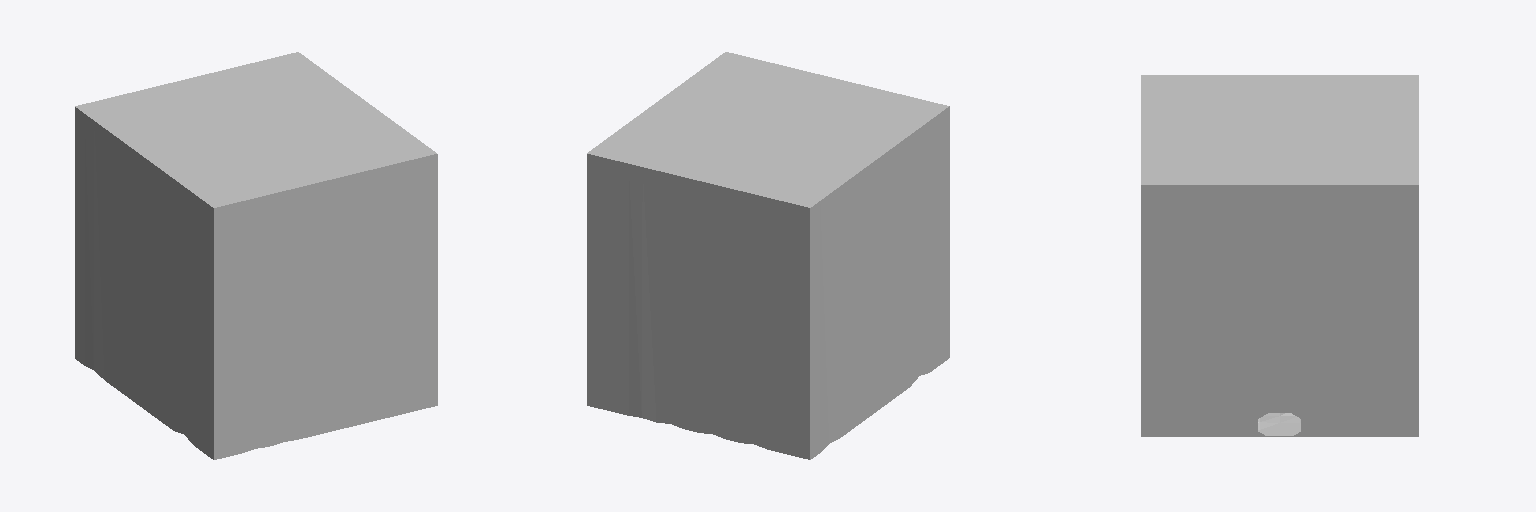
File: large_room.obj
3 renders of one model, left to right at view 1: azimuth 30°, elevation 25°; view 2: azimuth 150°, elevation 25°; view 3: azimuth 270°, elevation 25°, orthographic.
Parts seen in each view (by area): view 1: Cube.001; view 2: Cube.001; view 3: Cube.001.
Boxes of the visible parts, x1=… form: Cube.001: x1=75, y1=52, x2=437, y2=459; Cube.001: x1=587, y1=52, x2=949, y2=459; Cube.001: x1=1141, y1=75, x2=1418, y2=436.
Bounding box in the file's own units: 13 × 14 × 14.02.